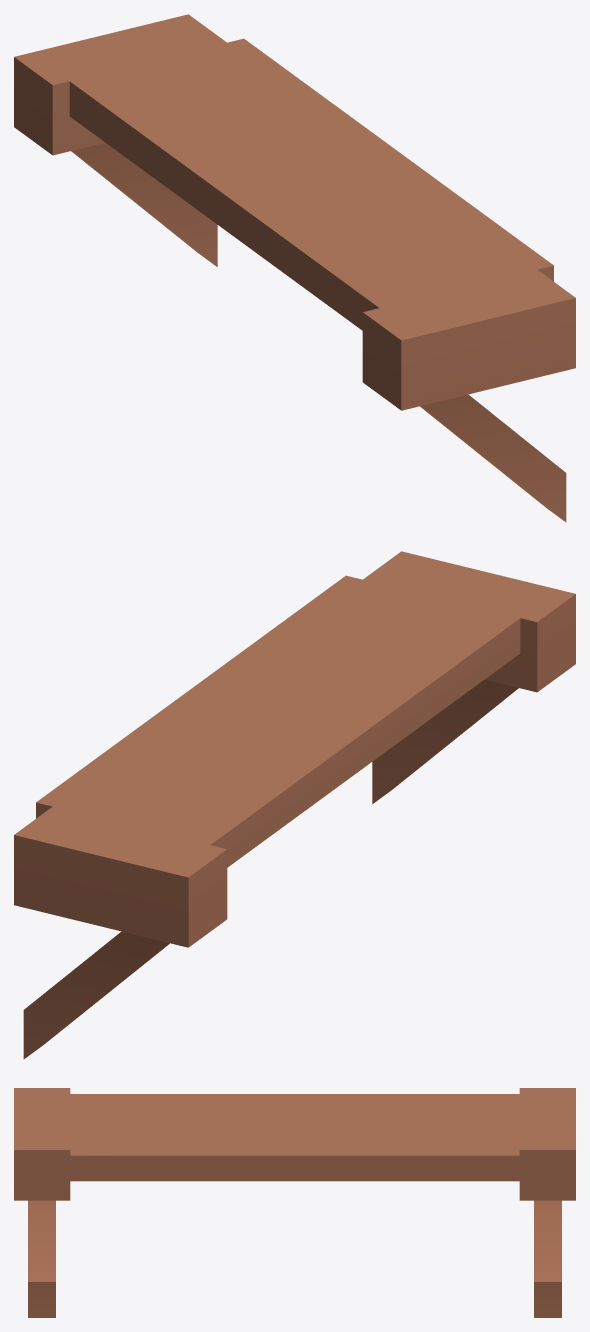
File: town-overhang.glb
3 renders of one model, top to bottom at view 1: azimuth 30°, elevation 25°; view 2: azimuth 150°, elevation 25°; view 3: azimuth 270°, elevation 25°, orthographic. The views are drawn at different scales.
Parts seen in each view (by area): view 1: town-overhang; view 2: town-overhang; view 3: town-overhang.
Boxes of the visible parts, x1,y1,x2,y2 form: town-overhang: (14,14,575,522); town-overhang: (14,551,575,1059); town-overhang: (14,1088,575,1317).
Bounding box in the file's own units: 0.285 × 0.33 × 1.
